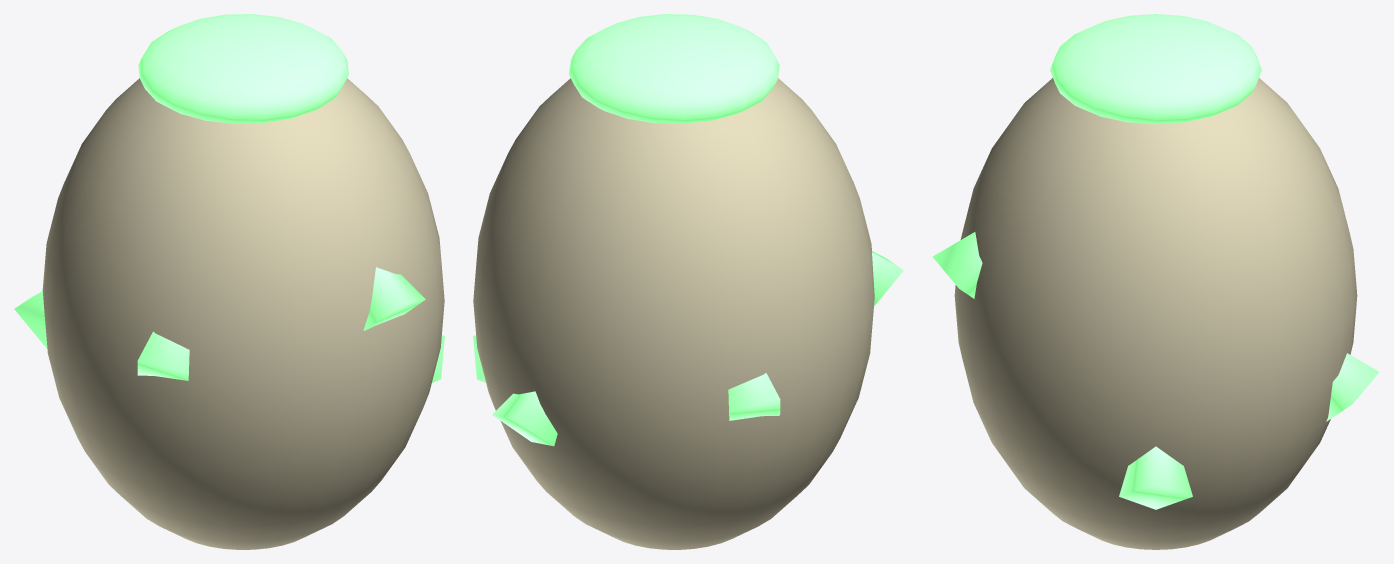
File: forest_egg.glb
The picture shows the model from 3 angles, left to right: view 1: azimuth 30°, elevation 25°; view 2: azimuth 150°, elevation 25°; view 3: azimuth 270°, elevation 25°; orthographic projection.
Visible parts, largest first — view 1: forest_egg; view 2: forest_egg; view 3: forest_egg.
Part boxes in pixels (bbox=[...]): forest_egg: bbox=[14, 14, 444, 549]; forest_egg: bbox=[473, 14, 903, 549]; forest_egg: bbox=[932, 14, 1379, 549].
Bounding box in the file's own units: 0.8184 × 1.04 × 0.8444.
